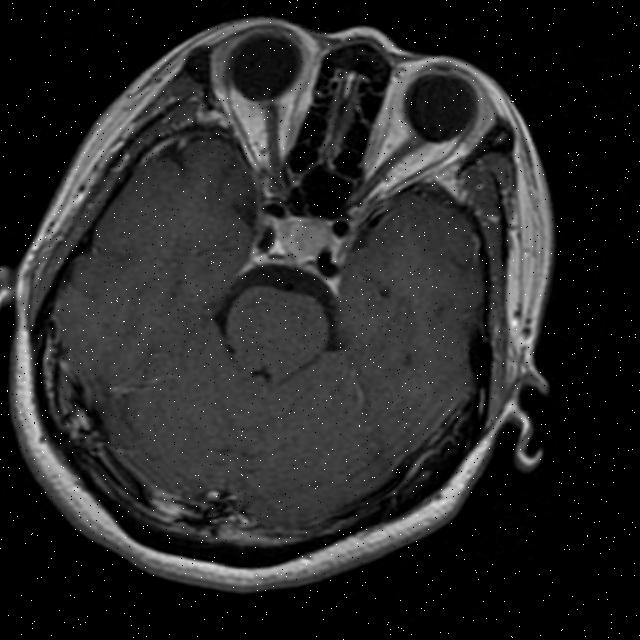Pituitary: (270, 207, 339, 267)
